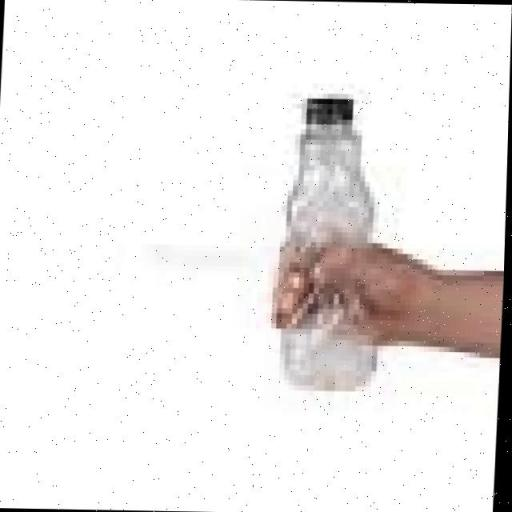plastic: (262, 90, 440, 396)
